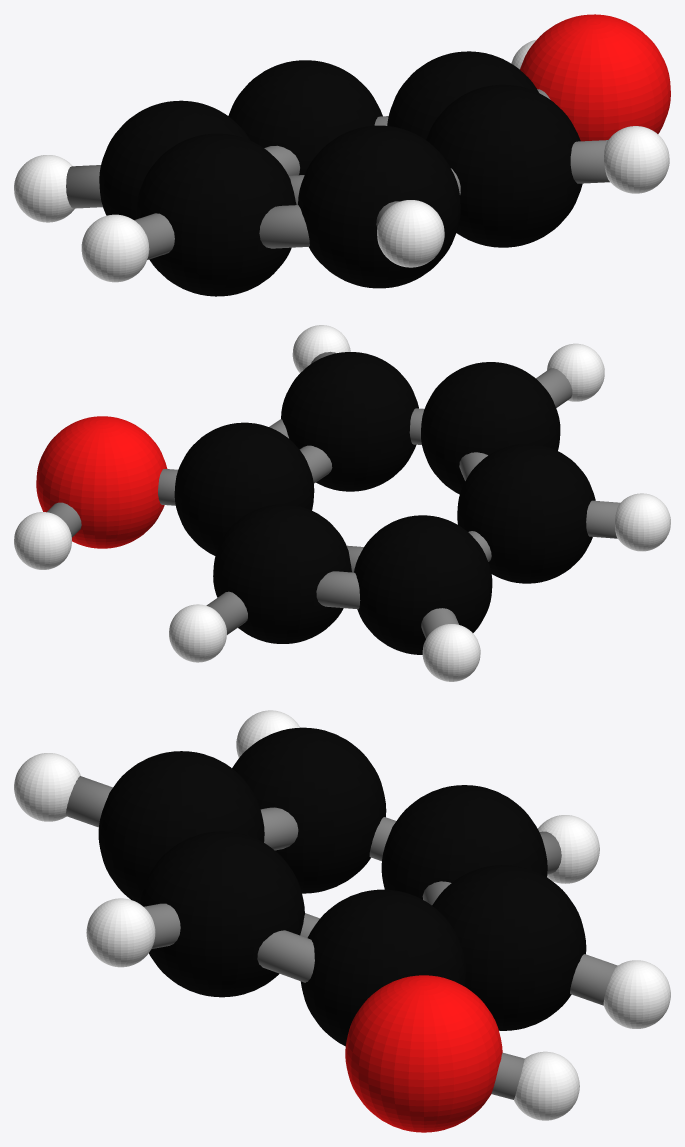
The model's file is FENOL.obj.
The picture shows the model from 3 angles, top to bottom: view 1: azimuth 30°, elevation 25°; view 2: azimuth 150°, elevation 25°; view 3: azimuth 270°, elevation 25°; orthographic projection. The views are drawn at different scales.
Parts seen in each view (by area): view 1: Carbon_ball_Sphere.002, Hydrogen_ball_Sphere, Oxygen_ball_Sphere.001, Stick_Cylinder.014_Cylinder.014, Stick_Cylinder.010_Cylinder.010, Stick_Cylinder_Cylinder, Stick_Cylinder.007_Cylinder.007, Stick_Cylinder.003_Cylinder.003; view 2: Carbon_ball_Sphere.002, Hydrogen_ball_Sphere, Oxygen_ball_Sphere.001, Stick_Cylinder.013_Cylinder.013, Stick_Cylinder.007_Cylinder.007, Stick_Cylinder.004_Cylinder.004, Stick_Cylinder.009_Cylinder.009, Stick_Cylinder.015_Cylinder.015, Stick_Cylinder_Cylinder, Stick_Cylinder.001_Cylinder.001, Stick_Cylinder.002_Cylinder.002; view 3: Carbon_ball_Sphere.002, Oxygen_ball_Sphere.001, Hydrogen_ball_Sphere, Stick_Cylinder.012_Cylinder.012, Stick_Cylinder.004_Cylinder.004, Stick_Cylinder.009_Cylinder.009, Stick_Cylinder.008_Cylinder.008, Stick_Cylinder.010_Cylinder.010, Stick_Cylinder.002_Cylinder.002.
Part boxes in pixels (<box>): Carbon_ball_Sphere.002: <box>99,51,582,296</box>; Hydrogen_ball_Sphere: <box>14,39,669,282</box>; Oxygen_ball_Sphere.001: <box>520,14,670,141</box>; Stick_Cylinder.014_Cylinder.014: <box>259,205,309,248</box>; Stick_Cylinder.010_Cylinder.010: <box>570,140,609,183</box>; Stick_Cylinder_Cylinder: <box>66,165,102,208</box>; Stick_Cylinder.007_Cylinder.007: <box>134,213,174,259</box>; Stick_Cylinder.003_Cylinder.003: <box>264,145,299,175</box>; Carbon_ball_Sphere.002: <box>174,352,595,654</box>; Hydrogen_ball_Sphere: <box>14,325,670,681</box>; Oxygen_ball_Sphere.001: <box>36,416,167,548</box>; Stick_Cylinder.013_Cylinder.013: <box>316,571,360,609</box>; Stick_Cylinder.007_Cylinder.007: <box>586,500,620,538</box>; Stick_Cylinder.004_Cylinder.004: <box>206,591,247,634</box>; Stick_Cylinder.009_Cylinder.009: <box>536,368,572,408</box>; Stick_Cylinder.015_Cylinder.015: <box>299,445,332,483</box>; Stick_Cylinder_Cylinder: <box>421,608,458,638</box>; Stick_Cylinder.001_Cylinder.001: <box>158,469,177,505</box>; Stick_Cylinder.002_Cylinder.002: <box>47,502,81,537</box>; Carbon_ball_Sphere.002: <box>98,727,586,1046</box>; Oxygen_ball_Sphere.001: <box>345,975,502,1132</box>; Hydrogen_ball_Sphere: <box>14,710,670,1120</box>; Stick_Cylinder.012_Cylinder.012: <box>257,930,314,982</box>; Stick_Cylinder.004_Cylinder.004: <box>570,954,617,1005</box>; Stick_Cylinder.009_Cylinder.009: <box>65,776,112,827</box>; Stick_Cylinder.008_Cylinder.008: <box>260,807,298,850</box>; Stick_Cylinder.010_Cylinder.010: <box>144,903,180,948</box>; Stick_Cylinder.002_Cylinder.002: <box>491,1053,524,1099</box>.
Size of the model in its own units: 7.08 by 2.28 by 6.09.
